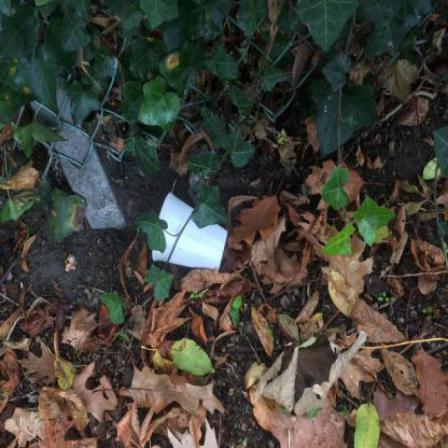Cup: (153, 220, 228, 272), (161, 193, 196, 235)
